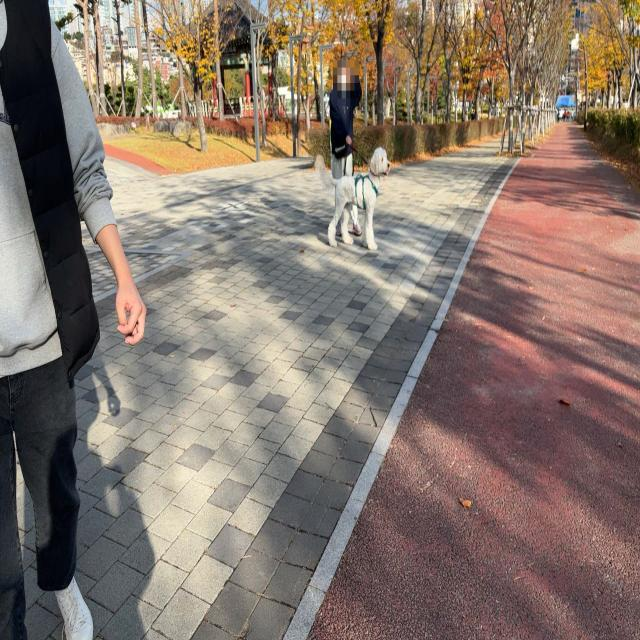Leashed_Dog: (314, 136, 390, 250)
